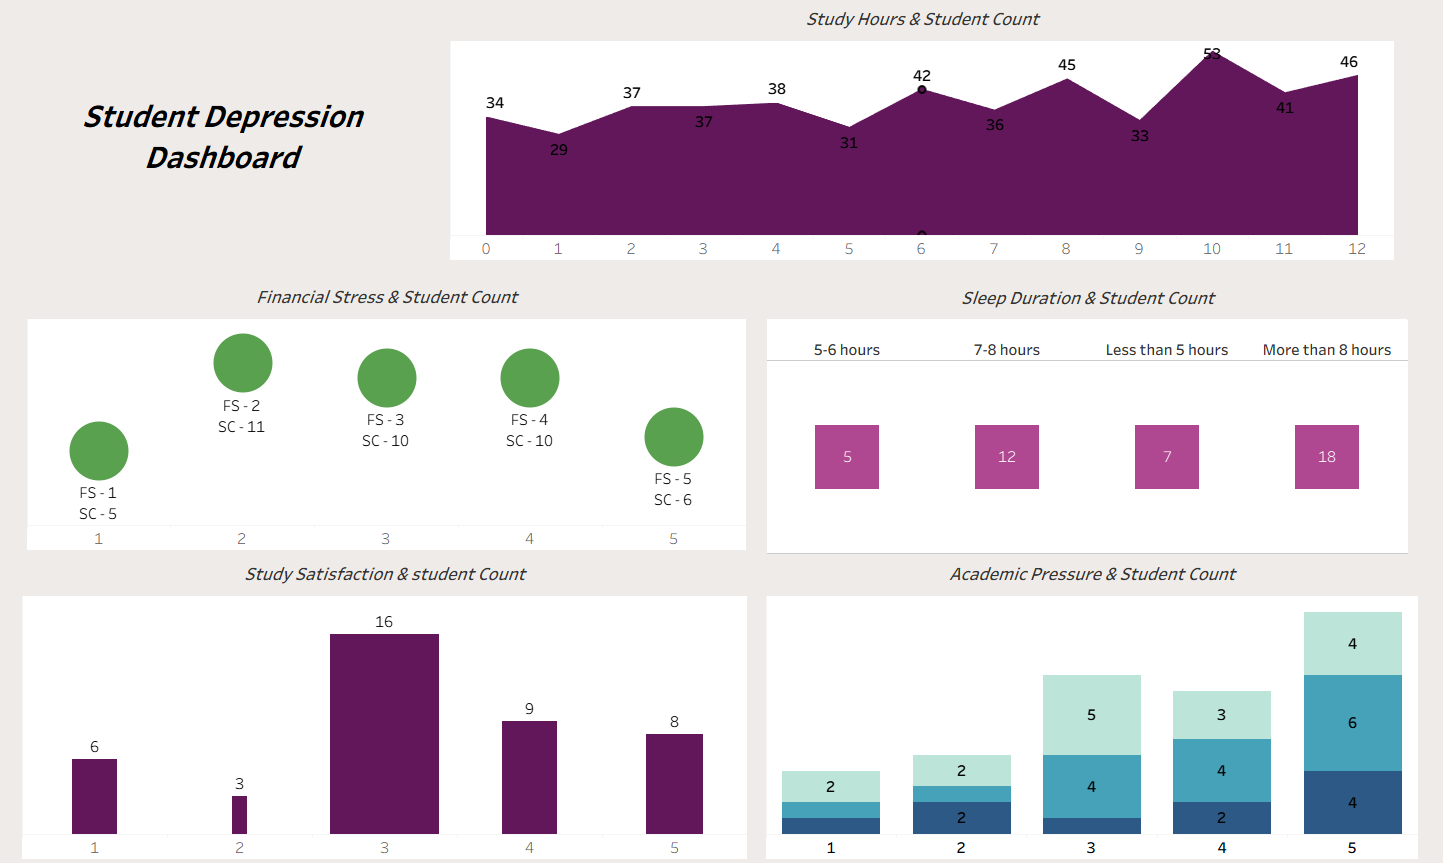

What the dashboard file says about the page in this screenshot:
{"tool":"tableau","page":{"name":"Dashboard 1","canvas":[1000,1000],"units":"permille","ordinal":0},"visuals":[{"type":"worksheet","title":"Study Hour","mark":"Area","rows":["Index_Column"],"cols":["Study_Hours"],"box":[312.4,8.1,651,296.6]},{"type":"text","box":[20.7,50.6,271,221.8]},{"type":"worksheet","title":"Financial Stress","mark":"Circle","rows":["Index_Column"],"cols":["Financial_Stress"],"box":[20.7,327.6,495.9,310.3]},{"type":"worksheet","title":"Sleep Duration","mark":"Square","cols":["Sleep_Duration"],"box":[531,328.7,442.1,313.8]},{"type":"worksheet","title":"Study Satisfaction","mark":"Automatic","rows":["Index_Column"],"cols":["Study_Satisfaction"],"box":[17.2,646,500,347.1]},{"type":"worksheet","title":"Academic Pressure","mark":"Bar","rows":["Index_Column"],"cols":["Academic_Pressure"],"box":[530.3,646,449.7,347.1]}]}

Visuals, with their boxes on the dashboard's canvas, which has no fixed pixel size, in thousandths of its width and height (x1, y1, x2, y2). These are canvas units, not pixel positions in the 1443x863 screenshot, which may show the page scaled, cropped or inside an application window:
"Study Hour" worksheet (Area marks): rect(312, 8, 963, 305)
text: rect(21, 51, 292, 272)
"Financial Stress" worksheet (Circle marks): rect(21, 328, 517, 638)
"Sleep Duration" worksheet (Square marks): rect(531, 329, 973, 642)
"Study Satisfaction" worksheet: rect(17, 646, 517, 993)
"Academic Pressure" worksheet (Bar marks): rect(530, 646, 980, 993)
